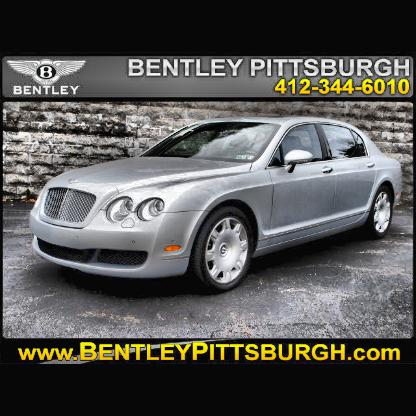Bentley Continental Flying Spur Sedan 2007: (30, 116, 405, 287)
